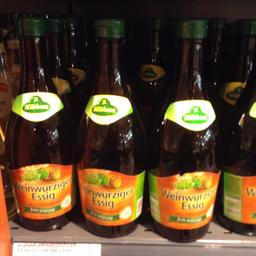vinegar: (148, 18, 222, 241), (6, 15, 80, 232), (77, 18, 144, 238), (224, 40, 255, 237)
